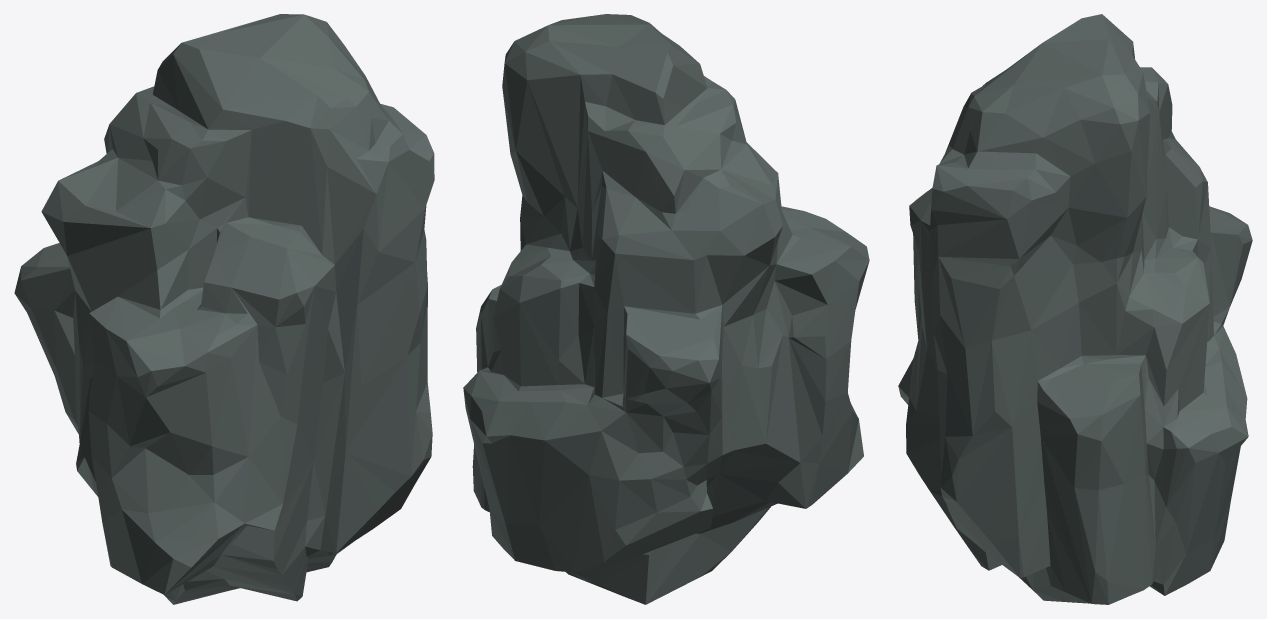
The model's file is SM_Rock_A.glb.
3 renders of one model, left to right at view 1: azimuth 30°, elevation 25°; view 2: azimuth 150°, elevation 25°; view 3: azimuth 270°, elevation 25°, orthographic. The views are drawn at different scales.
Visible parts, largest first — view 1: SM_Rock_A; view 2: SM_Rock_A; view 3: SM_Rock_A.
Part boxes in pixels (box(x1,y1,x2,y2)): SM_Rock_A: box(14, 14, 434, 604); SM_Rock_A: box(463, 14, 869, 604); SM_Rock_A: box(898, 14, 1252, 604).
Size of the model in its own units: 6.91 by 10.78 by 6.42.
Materials: 1 (1 with a texture image).
